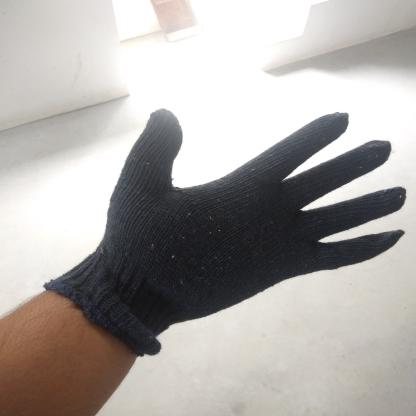gloved_hand: (40, 109, 408, 361)
